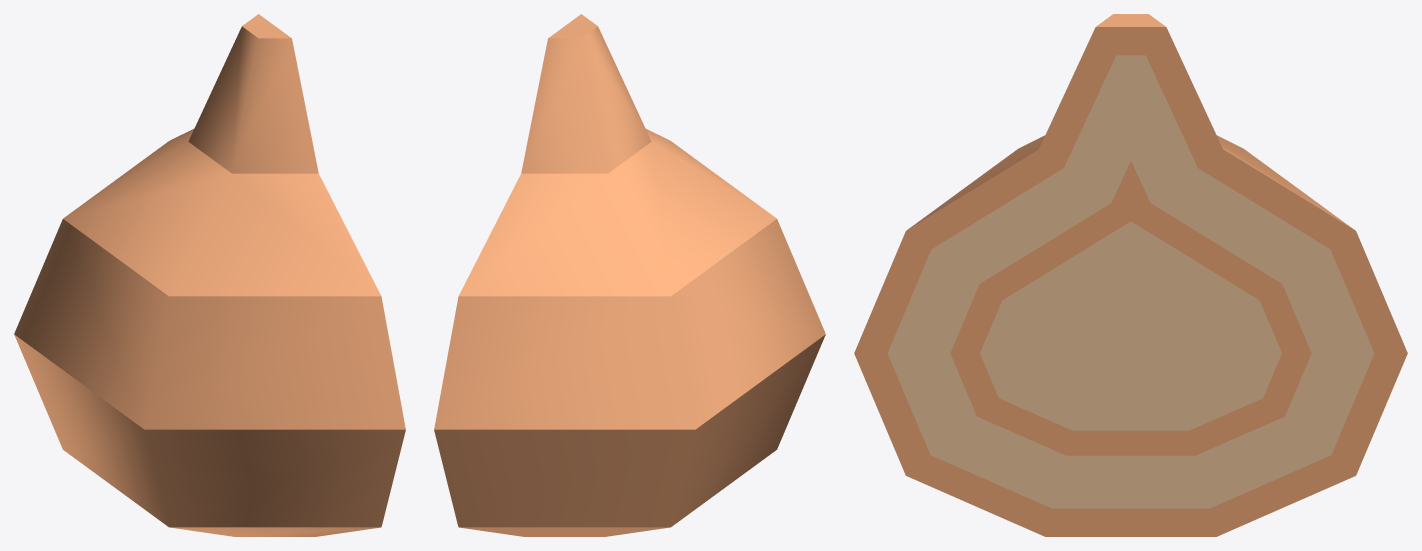
Rendered from Onion Half.glb.
The picture shows the model from 3 angles, left to right: view 1: azimuth 30°, elevation 25°; view 2: azimuth 150°, elevation 25°; view 3: azimuth 270°, elevation 25°; orthographic projection. The views are drawn at different scales.
Parts seen in each view (by area): view 1: Onion Half; view 2: Onion Half; view 3: Onion Half.
Part boxes in pixels (x1,y1,x2,y2): Onion Half: [14, 14, 405, 536]; Onion Half: [434, 14, 825, 536]; Onion Half: [854, 14, 1407, 536].
Bounding box in the file's own units: 0.1065 × 0.25 × 0.246.
